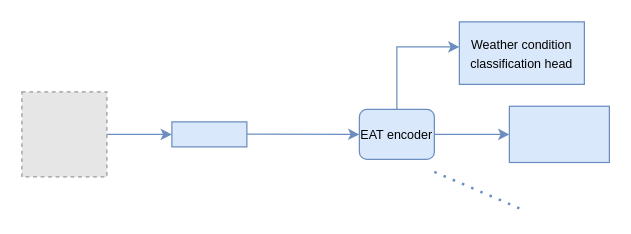
Some shapes in this 631 by 234 pixel diagram are drawn without their labels. Grey dashed boxes stand in for pictures. The shapes that lost their labels are listed below. From the top down, each one's centre as x and y in pixels, then its label:
At point (209, 134): "MEL".
At point (558, 133): "Drone classification head".
